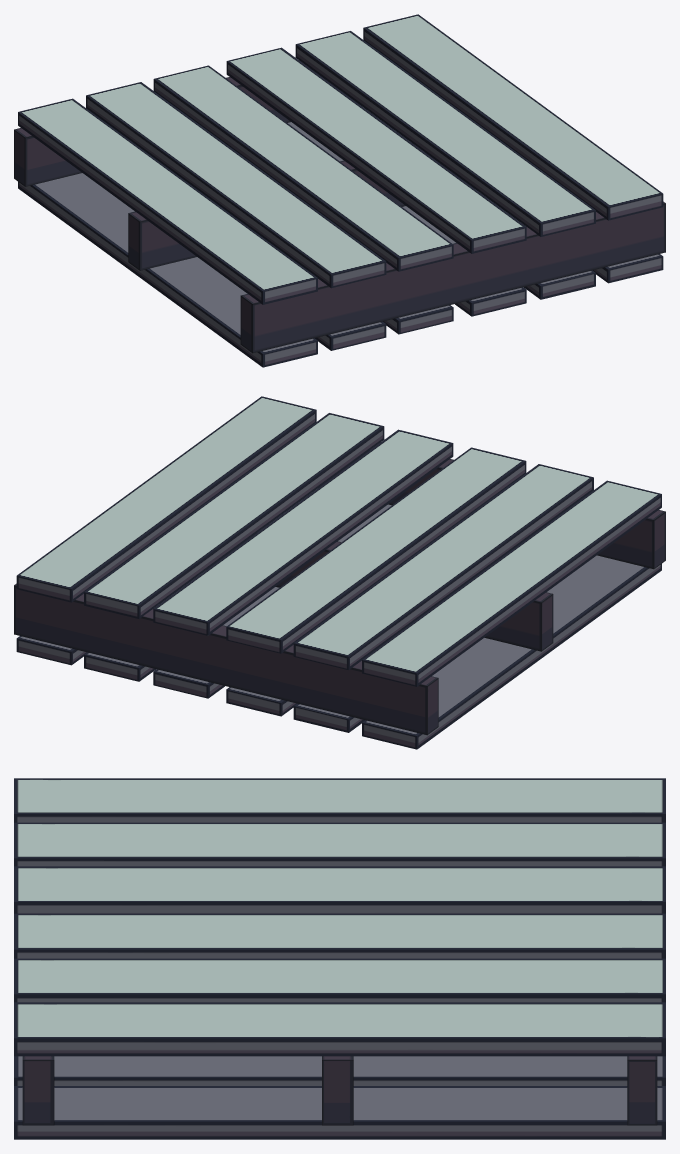
The model's file is pallet.fbx.
3 views of the same model, one above another, from view 1: azimuth 30°, elevation 25°; view 2: azimuth 150°, elevation 25°; view 3: azimuth 270°, elevation 25° (orthographic). The views are drawn at different scales.
Visible parts, largest first — view 1: Cube.001, Cube; view 2: Cube.001, Cube; view 3: Cube.001, Cube.
Boxes of the visible parts, x1=… form: Cube.001: x1=18, y1=14, x2=663, y2=367; Cube: x1=14, y1=60, x2=665, y2=353; Cube.001: x1=16, y1=396, x2=661, y2=749; Cube: x1=14, y1=442, x2=665, y2=735; Cube.001: x1=14, y1=778, x2=665, y2=1139; Cube: x1=22, y1=1056, x2=657, y2=1125.
Size of the model in its own units: 200 by 35.28 by 205.
Materials: 2 (2 with a texture image).
